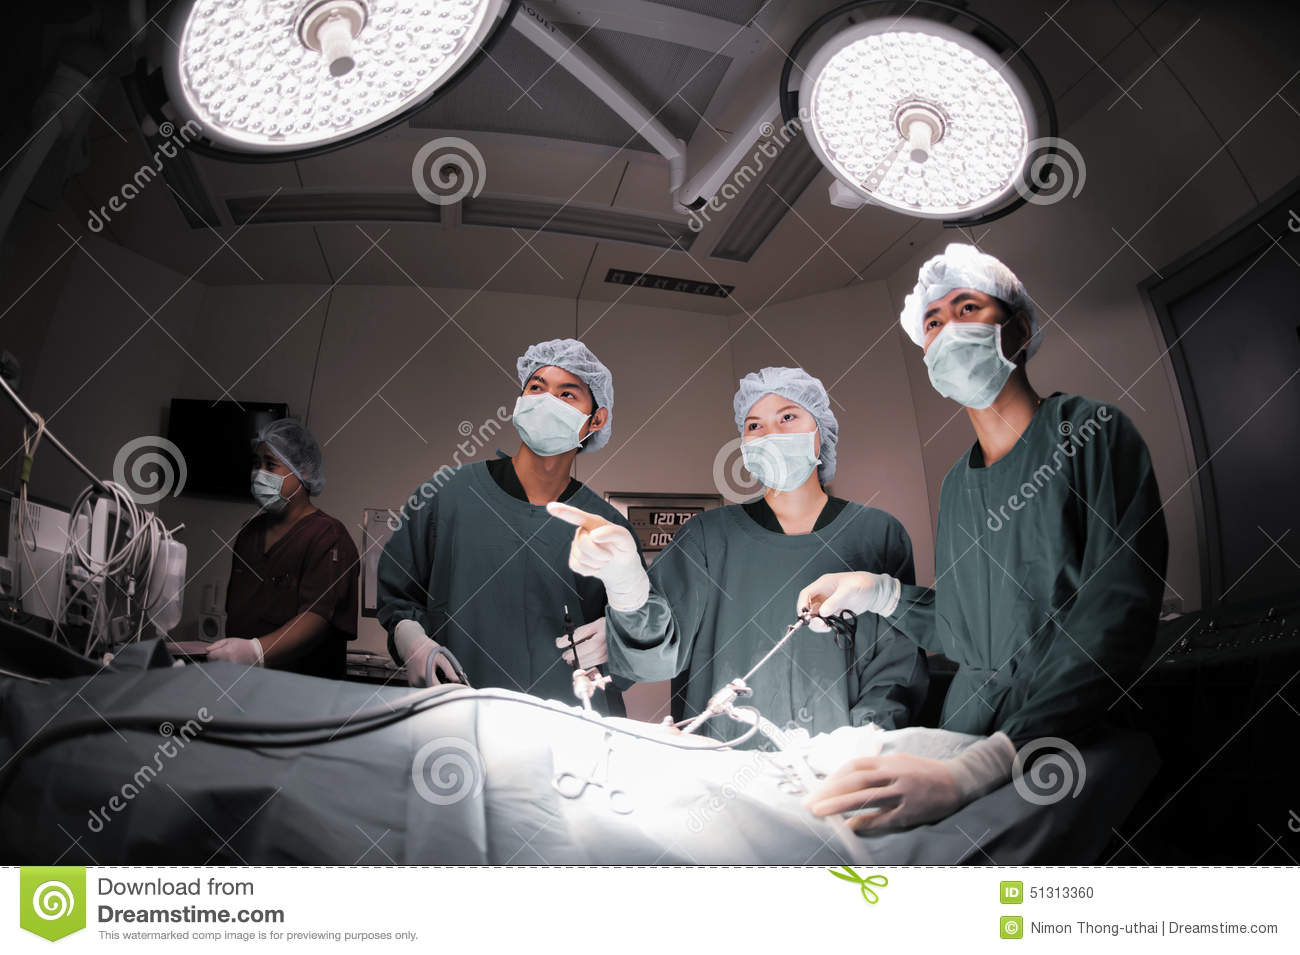mask: (919, 331, 1016, 404), (508, 397, 597, 450), (736, 435, 828, 481)
